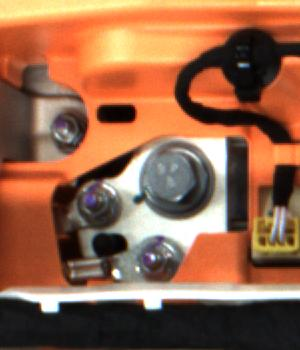nut_b: (137, 136, 219, 218)
screw_s: (47, 111, 84, 150)
